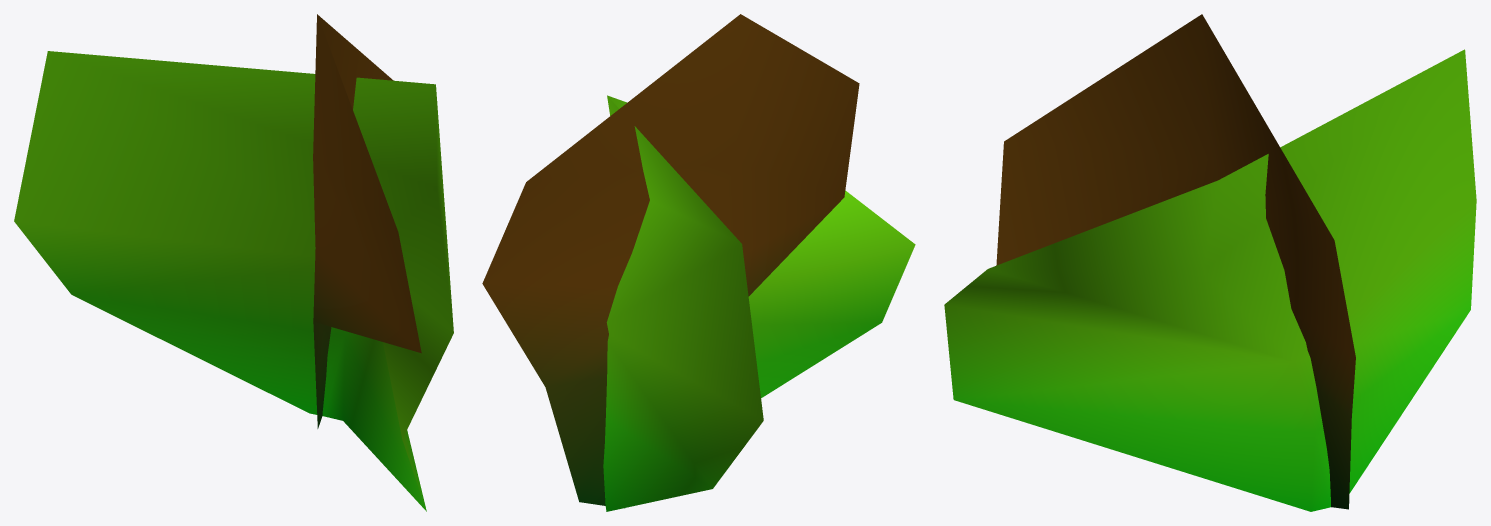
Rendered from Var1Hi7.fbx.
3 renders of one model, left to right at view 1: azimuth 30°, elevation 25°; view 2: azimuth 150°, elevation 25°; view 3: azimuth 270°, elevation 25°, orthographic.
Visible parts, largest first — view 1: bend1; view 2: bend1; view 3: bend1.
Part boxes in pixels (box(x1,y1,x2,y2)): bend1: box(14, 14, 453, 511); bend1: box(482, 14, 915, 511); bend1: box(944, 14, 1476, 511).
Bounding box in the file's own units: 1.04 × 1.36 × 1.41.
